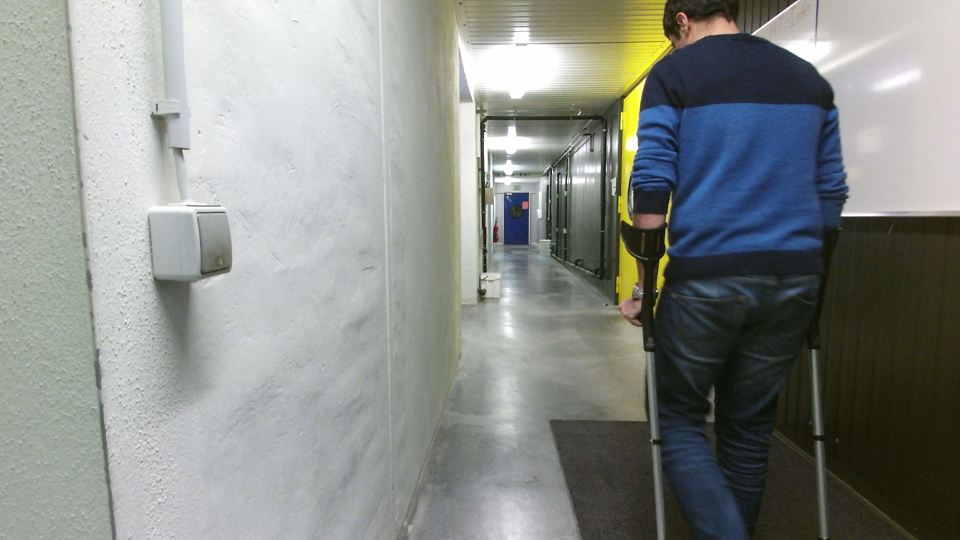crutches: (606, 1, 853, 540)
